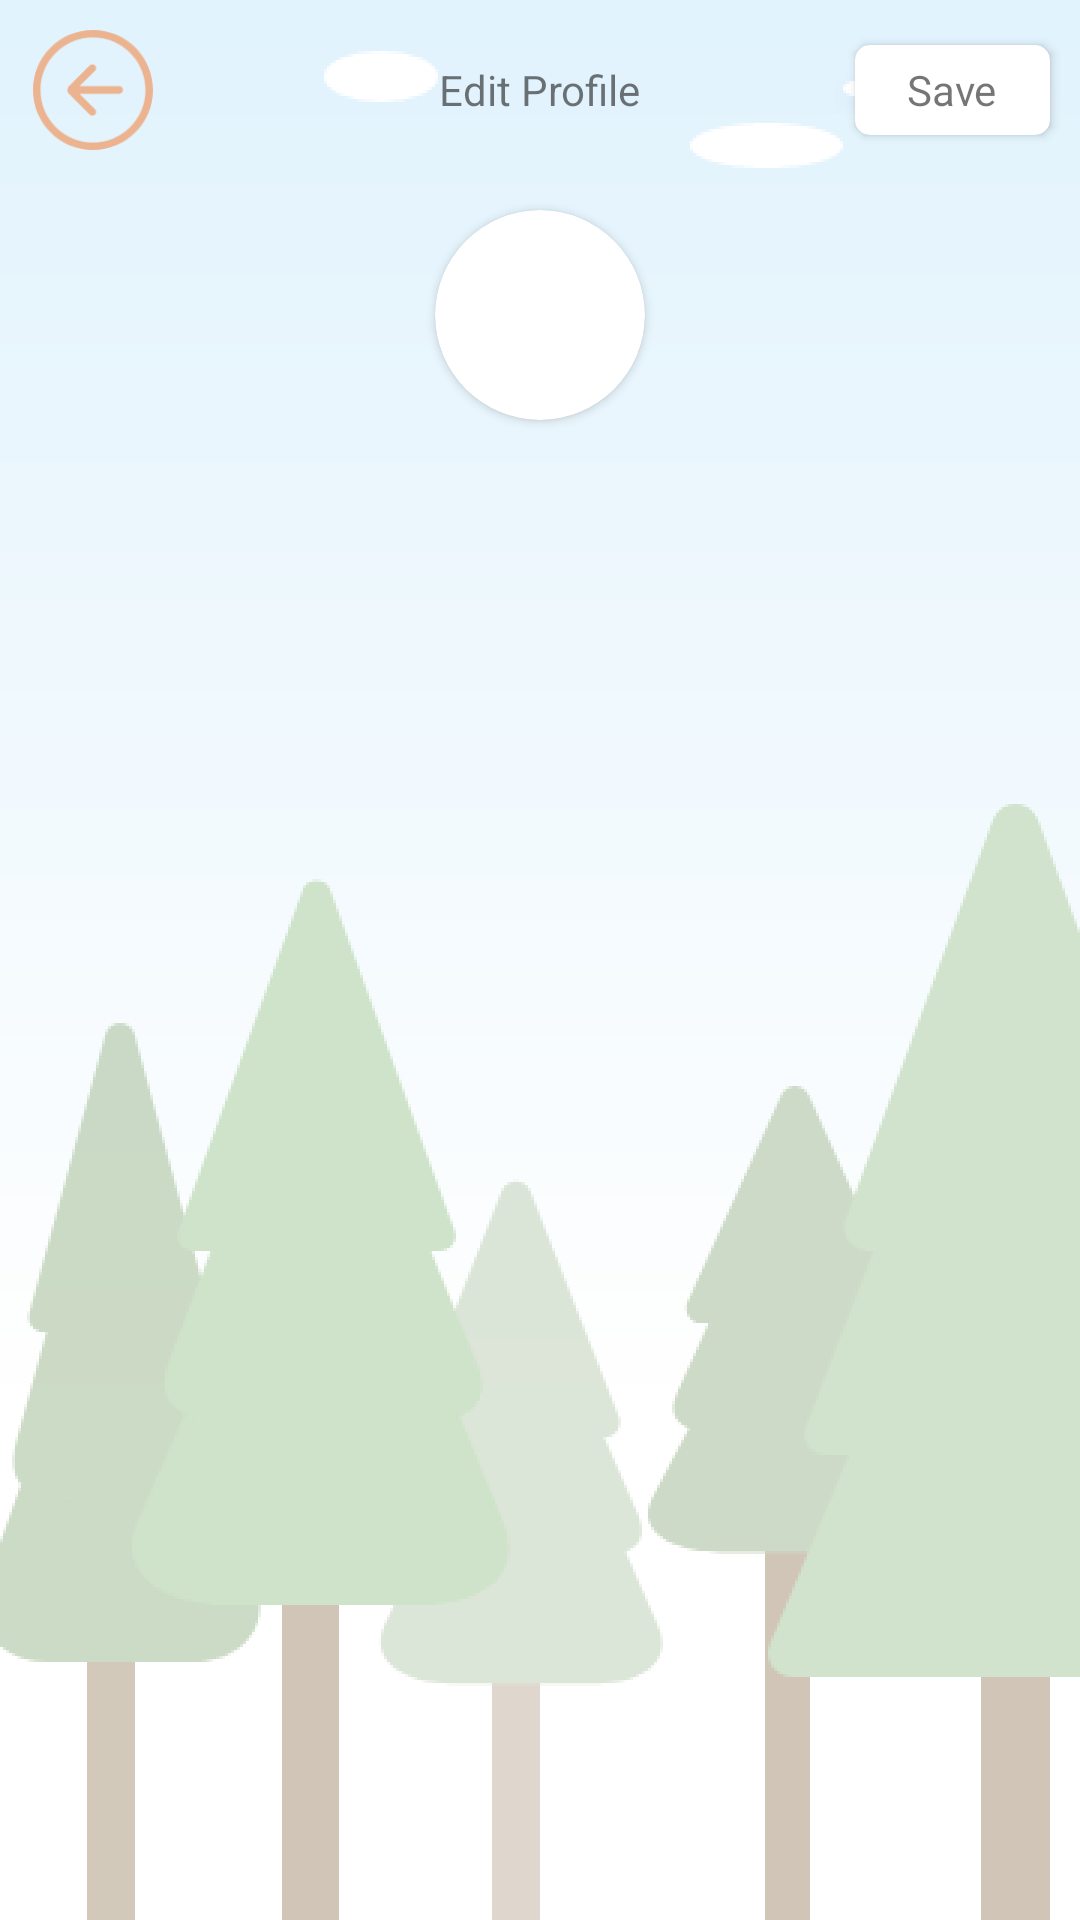

Locate icon controls on the screen. Image size 1080 × 1920, boxes as [left=x1, top=y1, right=x2, bottom=y2].
back: [left=33, top=30, right=153, bottom=150]
